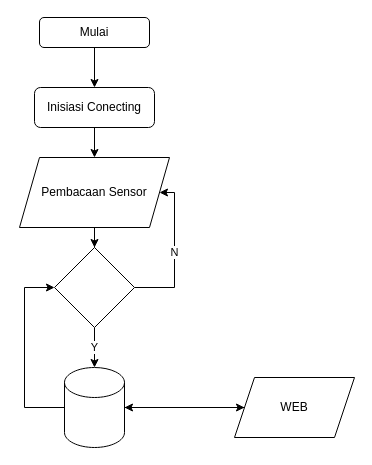
The diagram is 372 pixels wide and 465 high, and some of its shapes have lost their labels. The shapes that lost their labels are listed below. From the top down, each one's centre as x and y in pixels, then its label:
At (94,287): "Interval = 60".
At (94,407): "DB".
